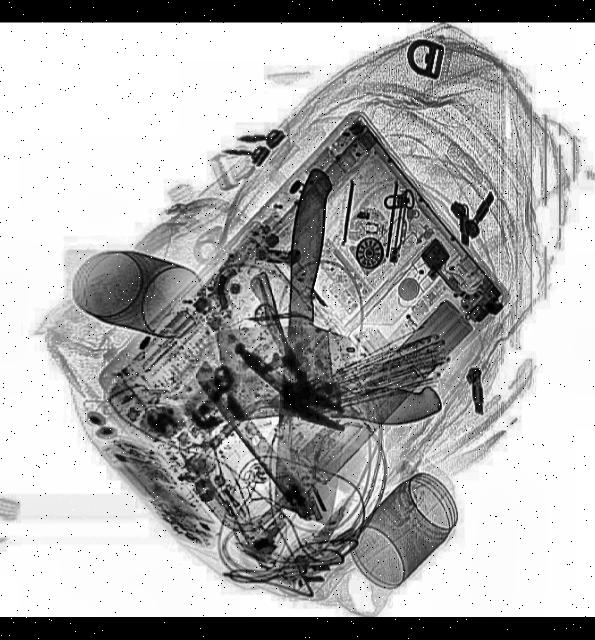Knife: (270, 166, 361, 524), (216, 320, 440, 425)
